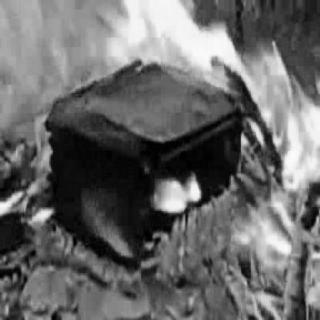Fire: (0, 0, 318, 312)
